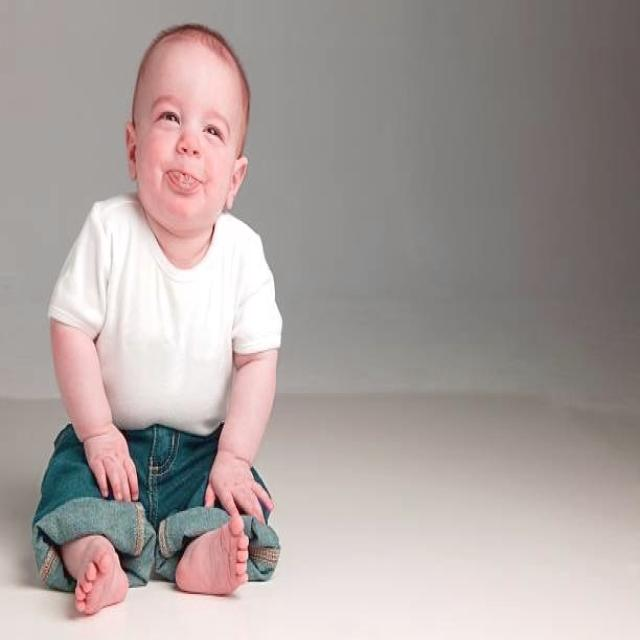Spitting: (110, 18, 268, 352)
